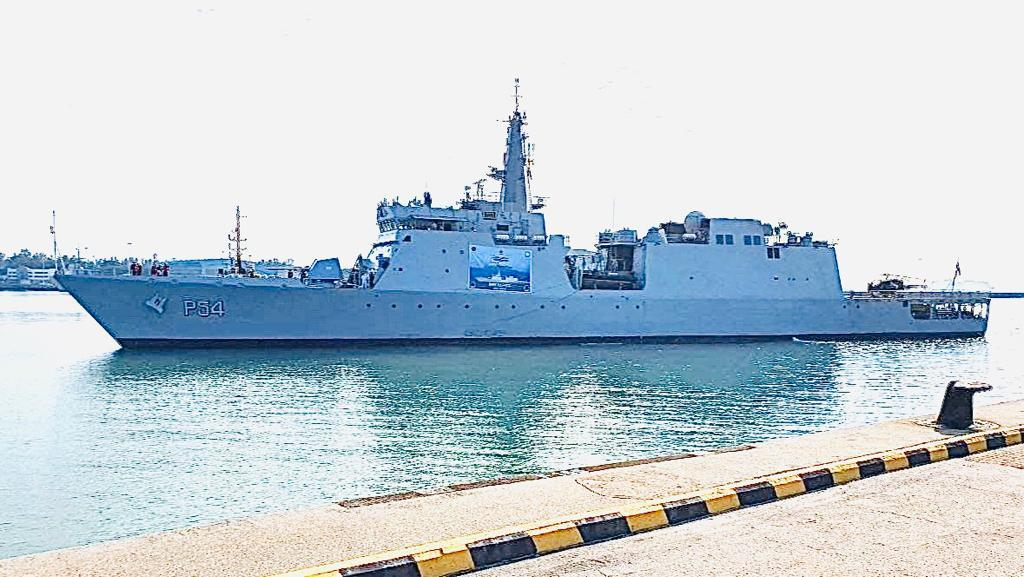Warship: (50, 86, 994, 354)
